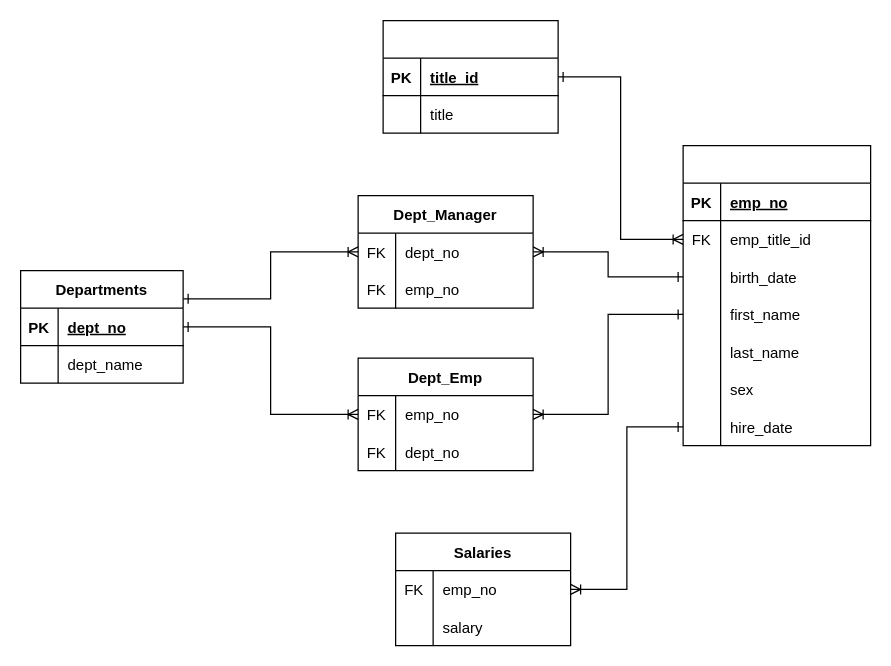
Image size: 891x666. Some labels were removed from this diagram. The box of each missing label's shape, as (x1, y1, x2, y2) in pixels:
Employees: (682, 144, 871, 446)
Titles: (382, 19, 558, 133)
